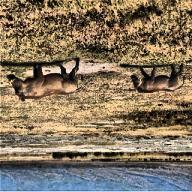boar: (7, 59, 83, 103)
